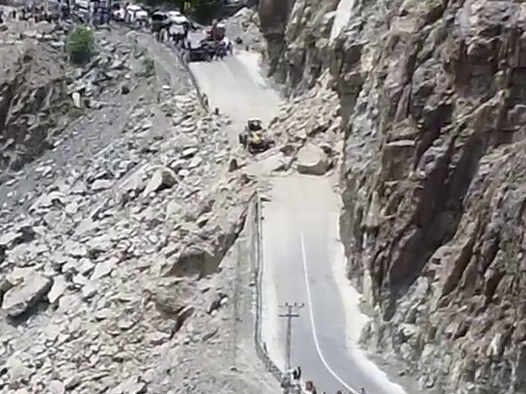unexpected: (239, 115, 388, 194)
